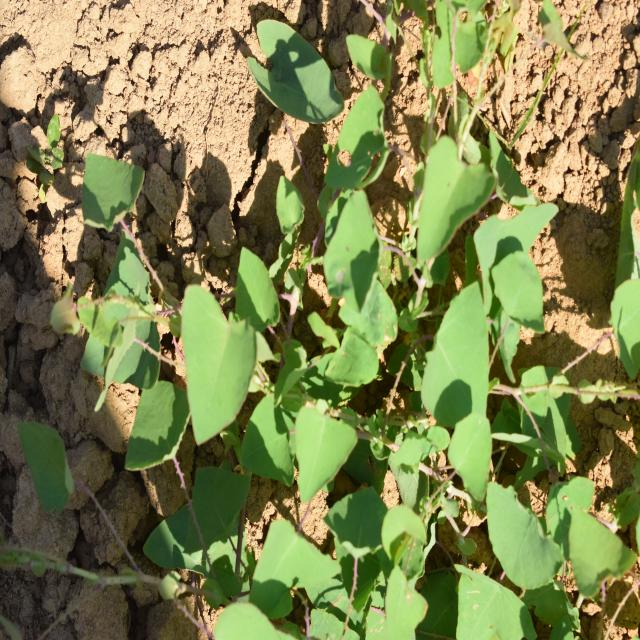Asiatic_Smartweed: (70, 152, 256, 484), (297, 42, 557, 255), (138, 462, 438, 626), (417, 237, 550, 494), (466, 455, 630, 611)
